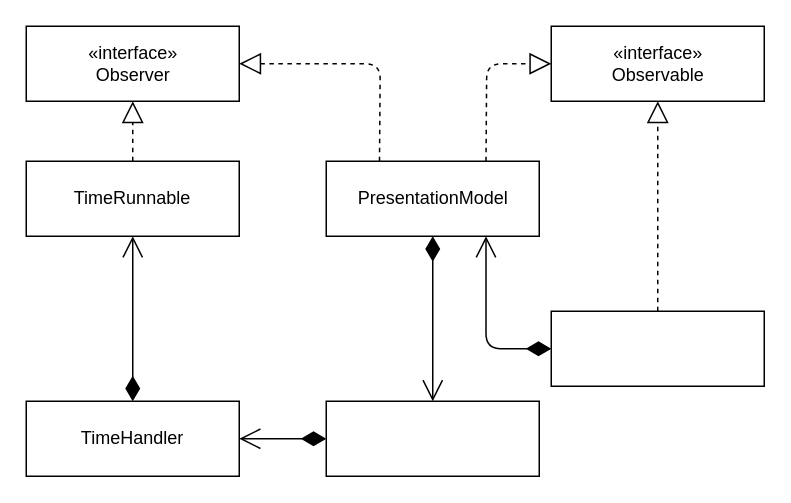
The diagram is 791 pixels wide and 503 high, and some of its shapes have lost their labels. Each missing label, with the centre of its shape:
PhonographPlayer: (432,438)
View: (657,348)
